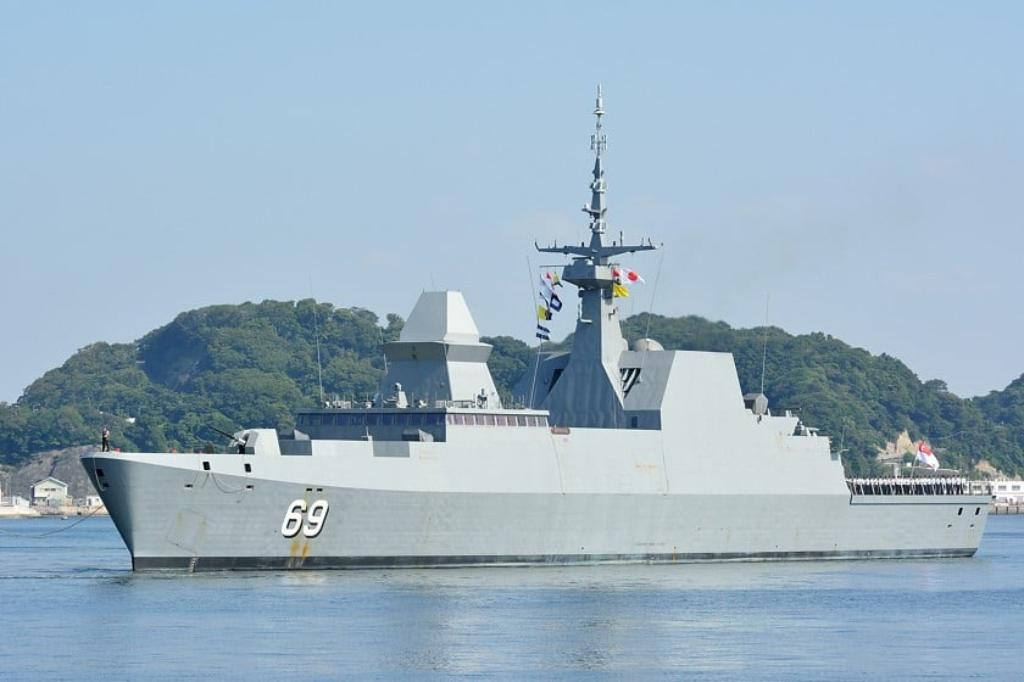Warship: (88, 120, 996, 570)
